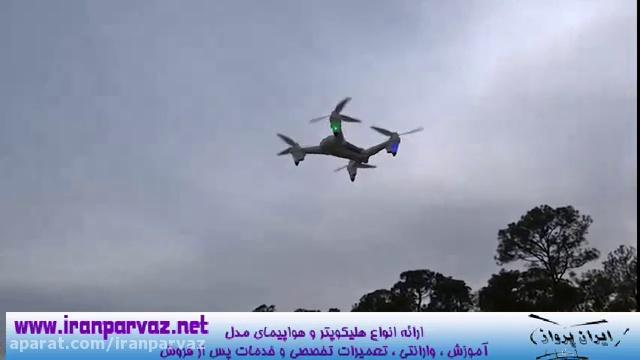drone: (274, 92, 426, 184)
